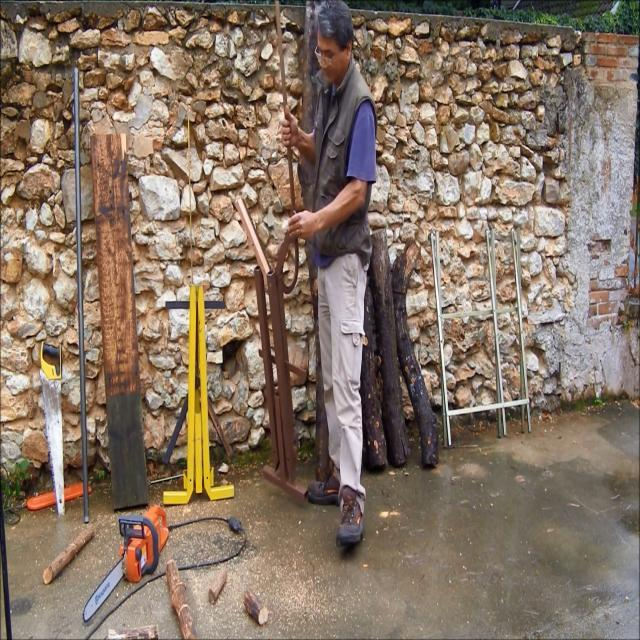Chainsaw: (76, 486, 186, 640)
